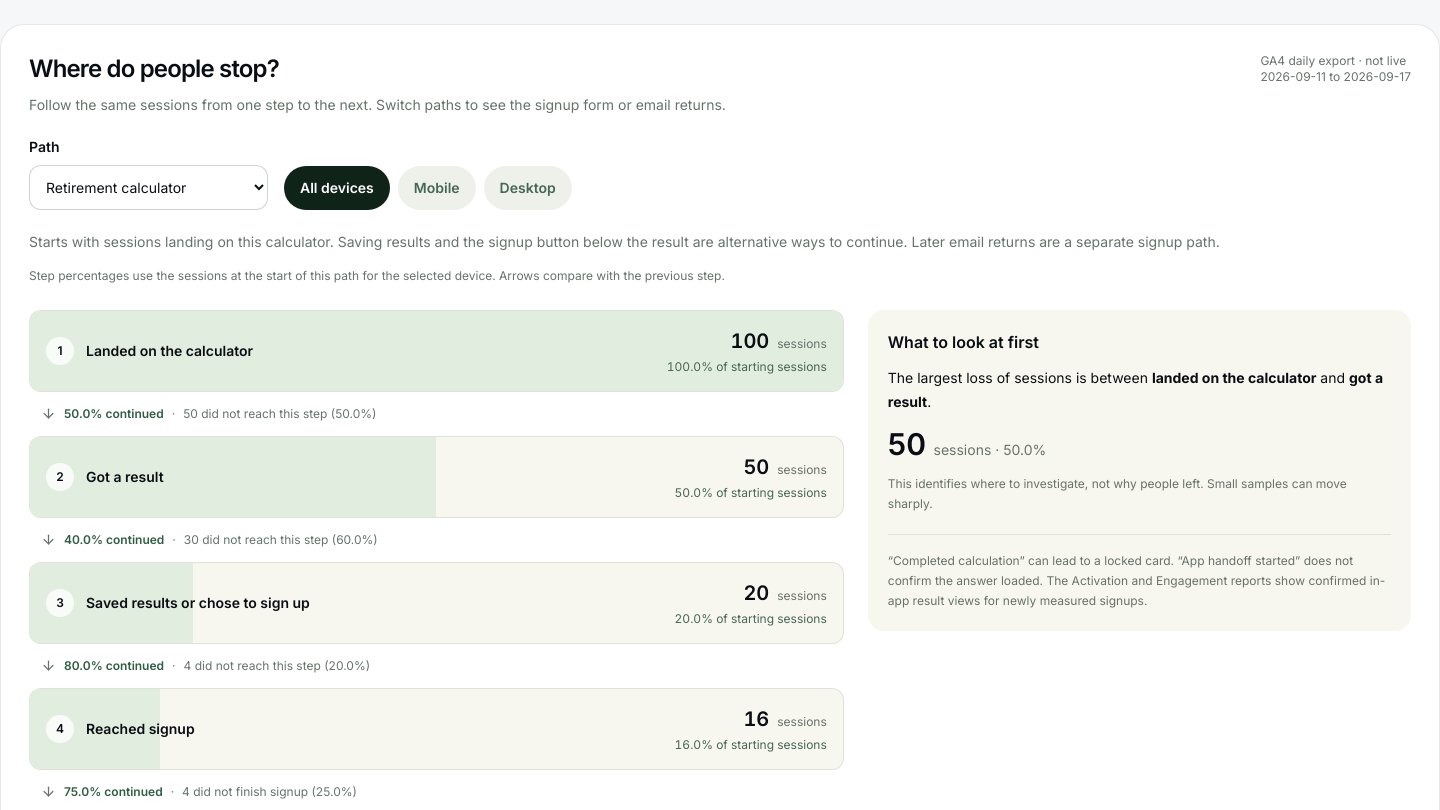
Test: simplified admin journeys › shows counts and shares of the selected retirement path on Desktop
Click the button "Desktop". click: click(528, 188)
box: [484,166,572,210]
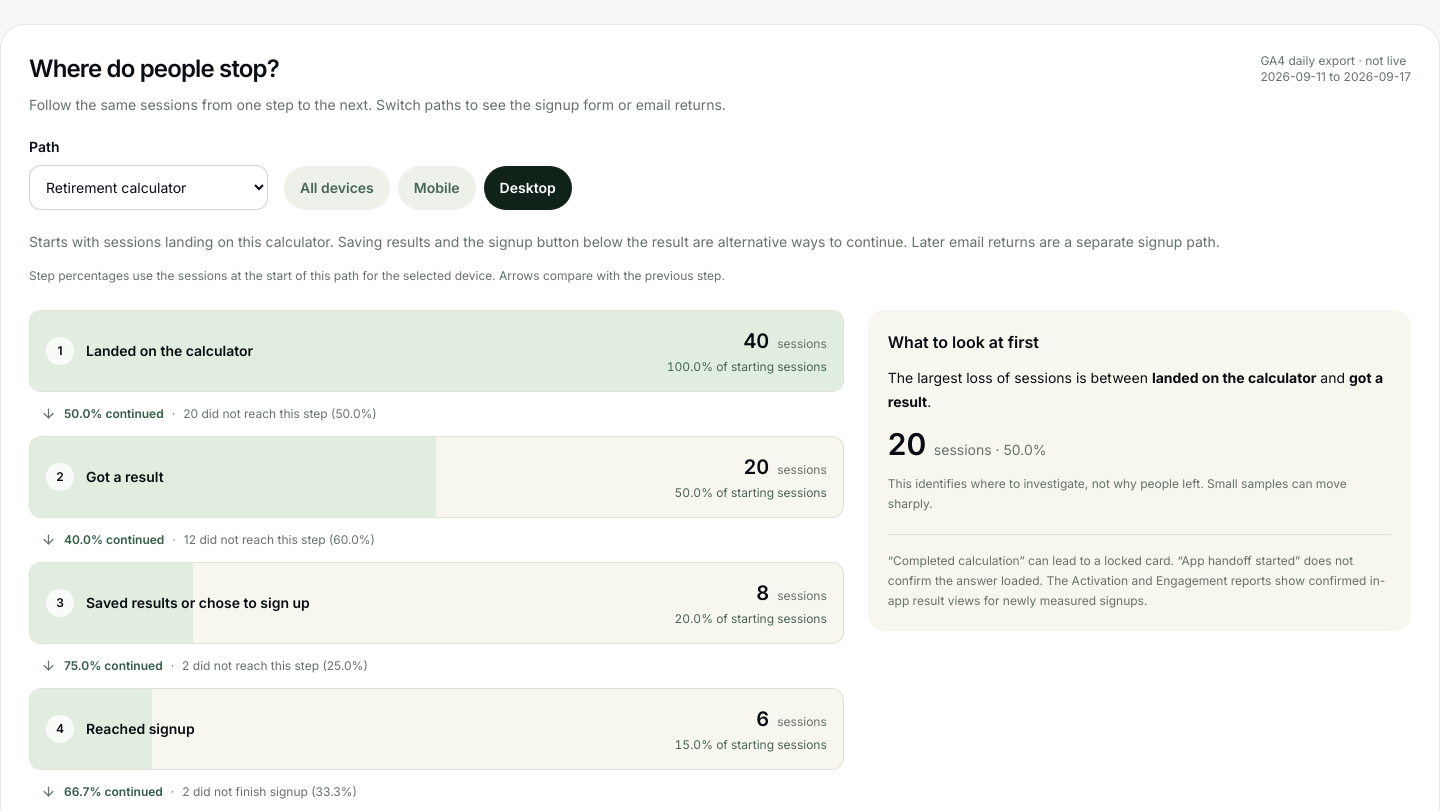
Expected: the text "100.0% of starting sessions" is shown, [667,359,827,375]
Expected: the text "8" is shown, [756,581,769,605]
